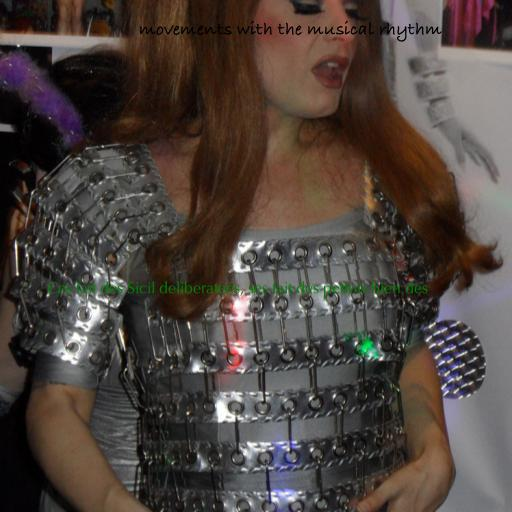Bradley Hand: (138, 20, 442, 42)
Optima: (46, 281, 428, 298)
